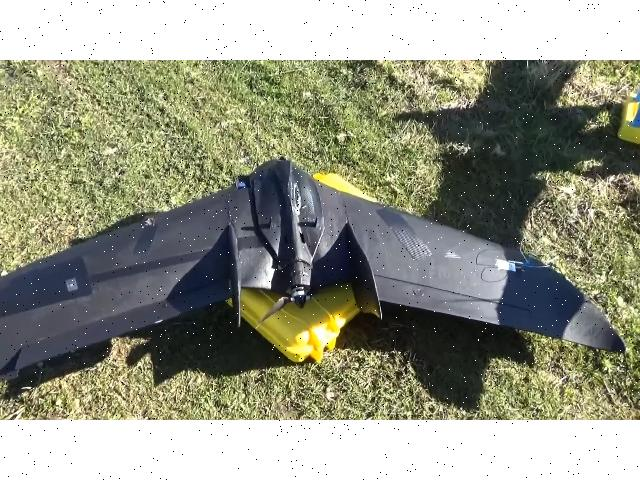Anti-Drone: (0, 142, 636, 389)
